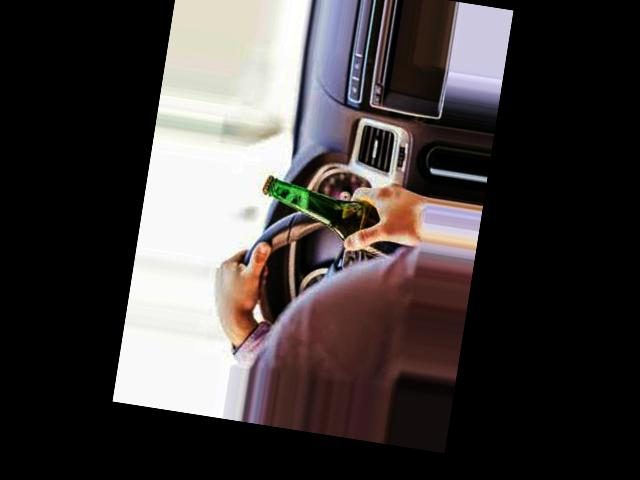beer: (254, 174, 413, 260)
